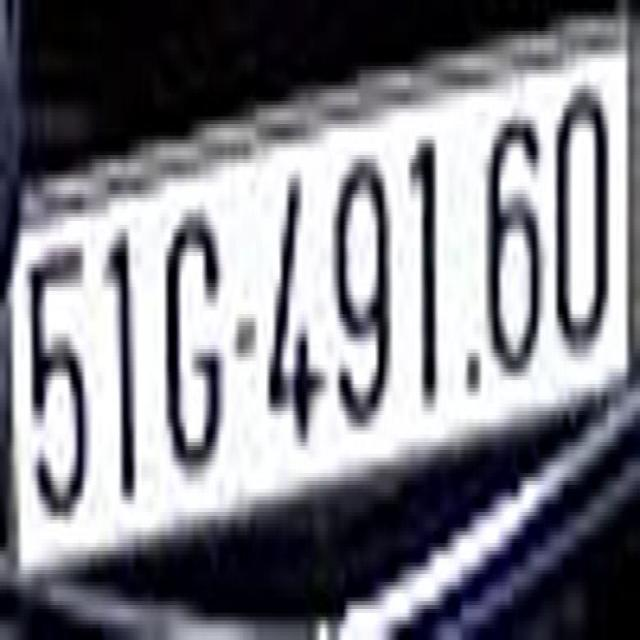0: (551, 62, 612, 384)
1: (100, 183, 149, 532), (400, 101, 444, 434)
4: (263, 136, 321, 477)
5: (26, 186, 94, 539)
6: (485, 89, 544, 407)
9: (331, 124, 394, 458)
G: (160, 163, 225, 500)
